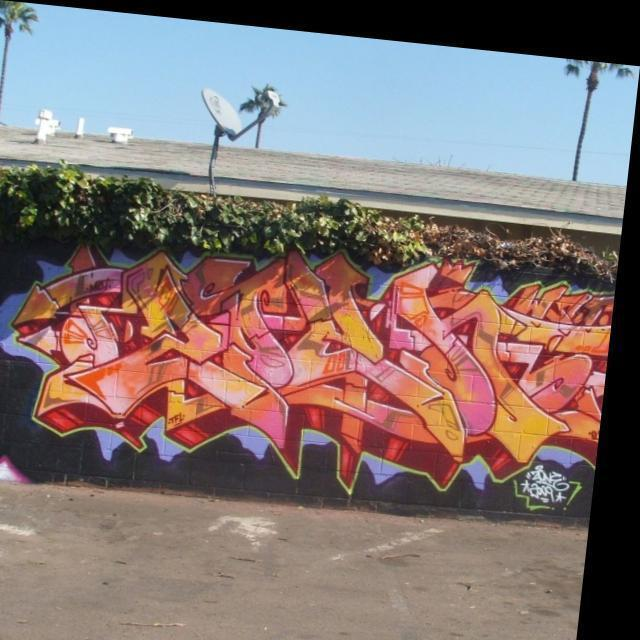nonspitting: (9, 245, 617, 496)
